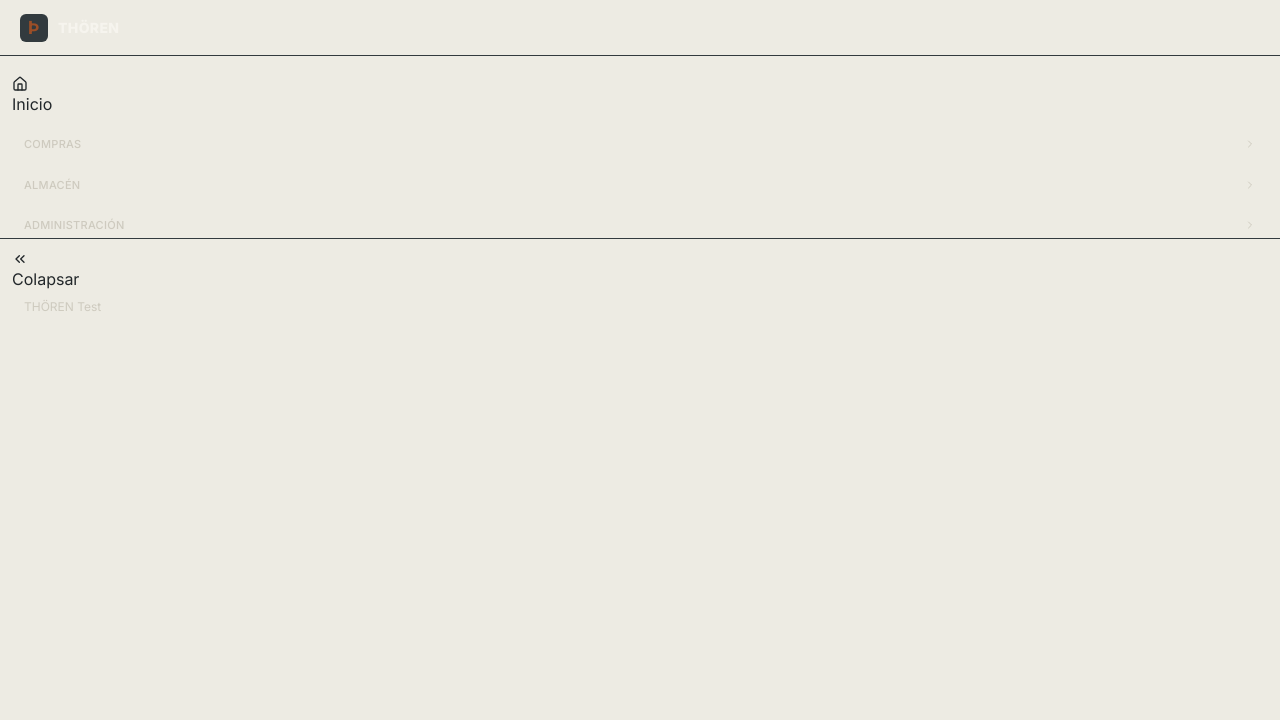
Sidebar — control de acceso por departamentos (filtro ADITIVO sobre el de siempre) › vendedor con Compras+Almacén asignados ve ambos departamentos, nada de Ventas
Click the button "Compras". click: click(53, 144)
box: [12,132,1268,156]
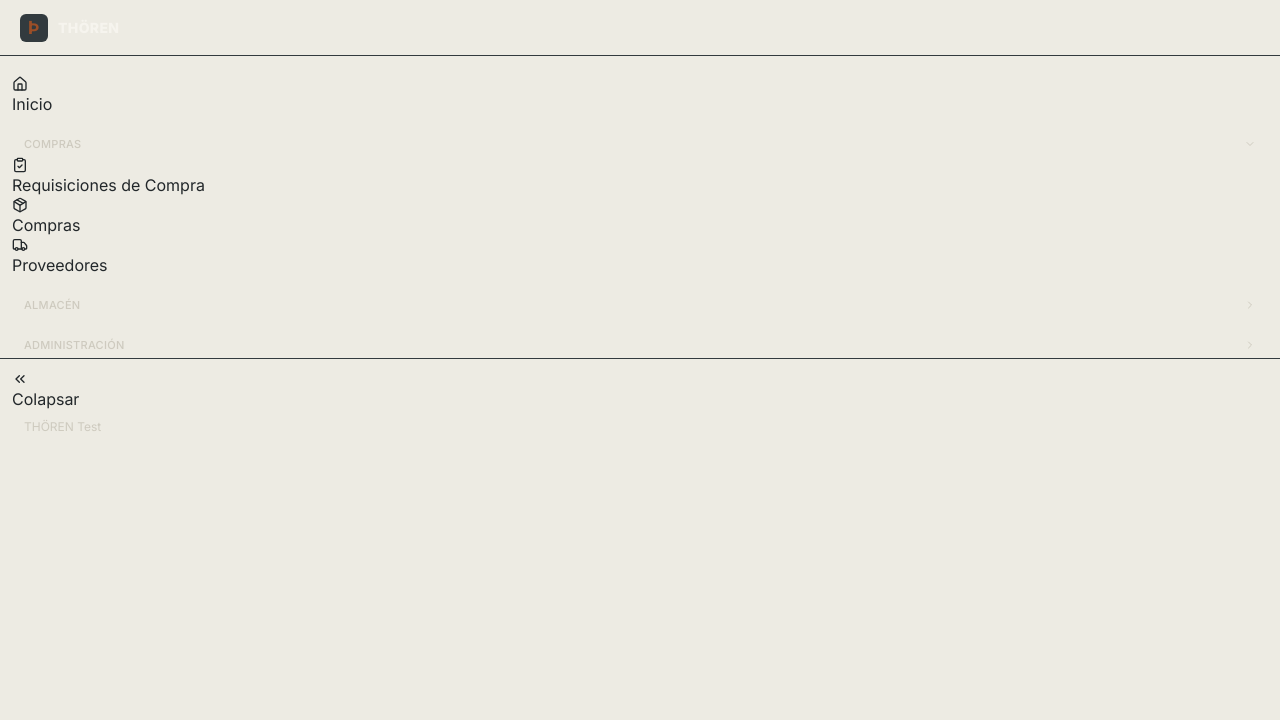
Click the button "Almacén". click: click(52, 304)
box: [12,292,1268,317]
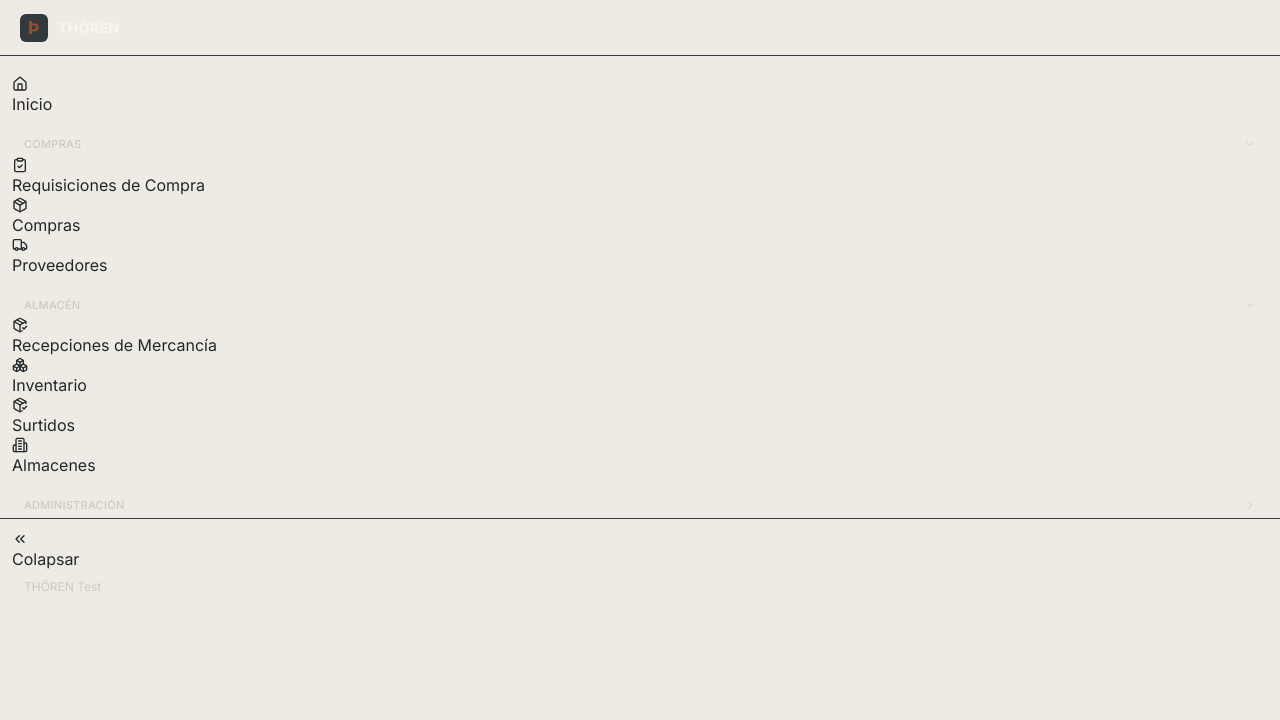
Expected: the link "Proveedores" is shown, [12,236,108,274]
Expected: the link "Inventario" is shown, [12,357,87,395]
